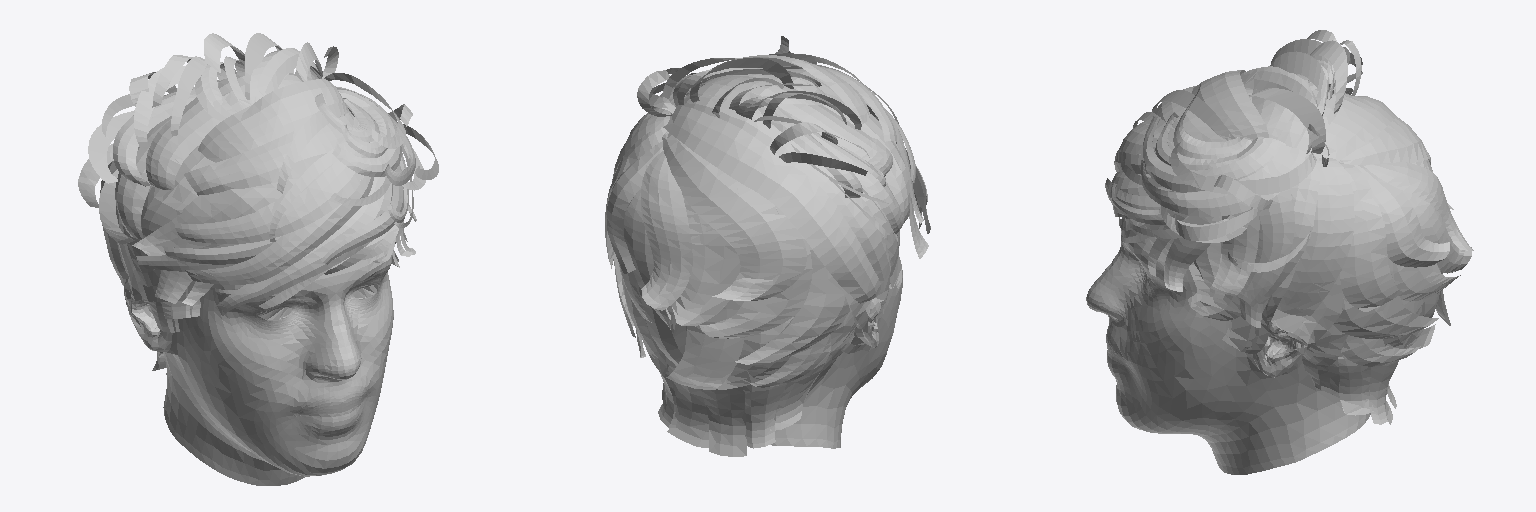
The model's file is prakash_avatar.obj.
3 renders of one model, left to right at view 1: azimuth 30°, elevation 25°; view 2: azimuth 150°, elevation 25°; view 3: azimuth 270°, elevation 25°, orthographic.
Visible parts, largest first — view 1: model; view 2: model; view 3: model.
Boxes of the visible parts, x1,y1,x2,y2 form: model: [78, 33, 438, 485]; model: [605, 36, 930, 456]; model: [1086, 30, 1473, 474].
Bounding box in the file's own units: 2.92 × 3.93 × 3.35.